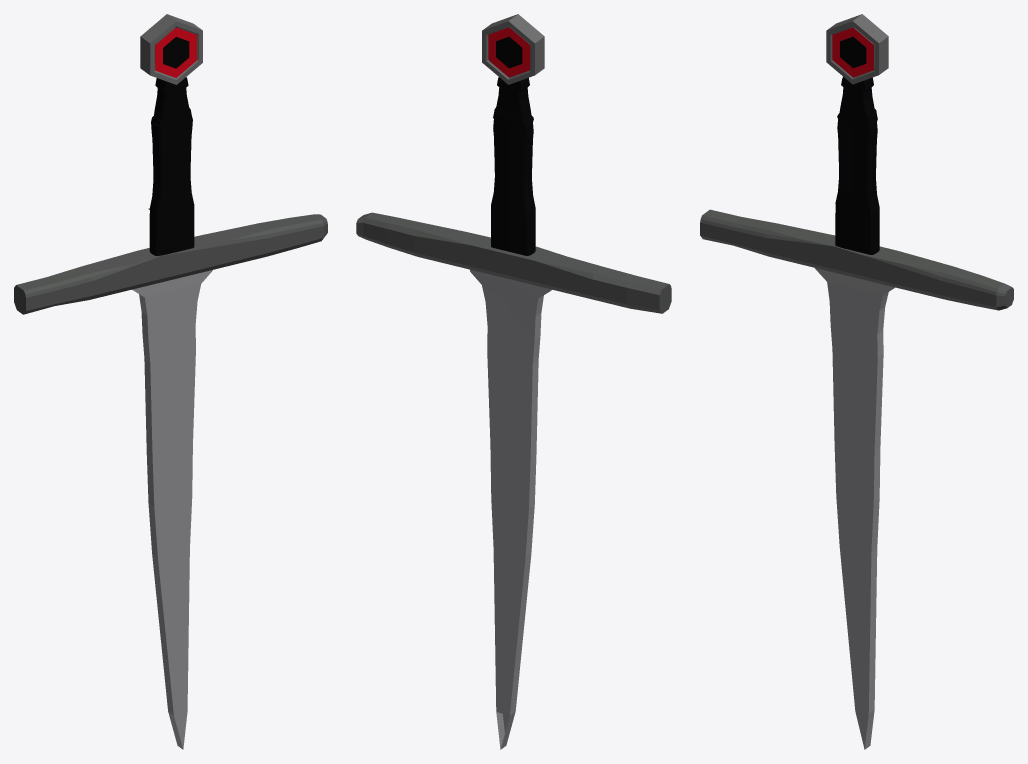
The model's file is Sword_Two.fbx.
The picture shows the model from 3 angles, left to right: view 1: azimuth 30°, elevation 25°; view 2: azimuth 150°, elevation 25°; view 3: azimuth 330°, elevation 25°; orthographic projection.
Parts seen in each view (by area): view 1: Plane.001, Cube.001, Cube, Circle, Circle.001, Plane.002, Circle.002; view 2: Plane.001, Cube.001, Cube, Circle, Circle.001, Circle.002; view 3: Plane.001, Cube.001, Cube, Circle, Circle.001, Plane.002, Circle.002.
Part boxes in pixels (box(x1,y1,x2,y2)): Plane.001: box(139, 284, 200, 749); Cube.001: box(14, 214, 327, 314); Cube: box(148, 77, 194, 255); Circle: box(140, 14, 202, 84); Circle.001: box(155, 27, 196, 77); Plane.002: box(132, 270, 212, 297); Circle.002: box(163, 37, 189, 68); Plane.001: box(470, 269, 550, 749); Cube.001: box(356, 212, 671, 313); Cube: box(491, 77, 535, 255); Circle: box(482, 14, 544, 84); Circle.001: box(488, 27, 530, 77); Circle.002: box(496, 36, 522, 68); Plane.001: box(827, 282, 888, 749); Cube.001: box(700, 209, 1013, 310); Cube: box(835, 76, 879, 254); Circle: box(826, 14, 888, 84); Circle.001: box(832, 27, 873, 77); Plane.002: box(815, 268, 894, 295); Circle.002: box(840, 37, 866, 68).
Bounding box in the file's own units: 300 × 689 × 22.62.
